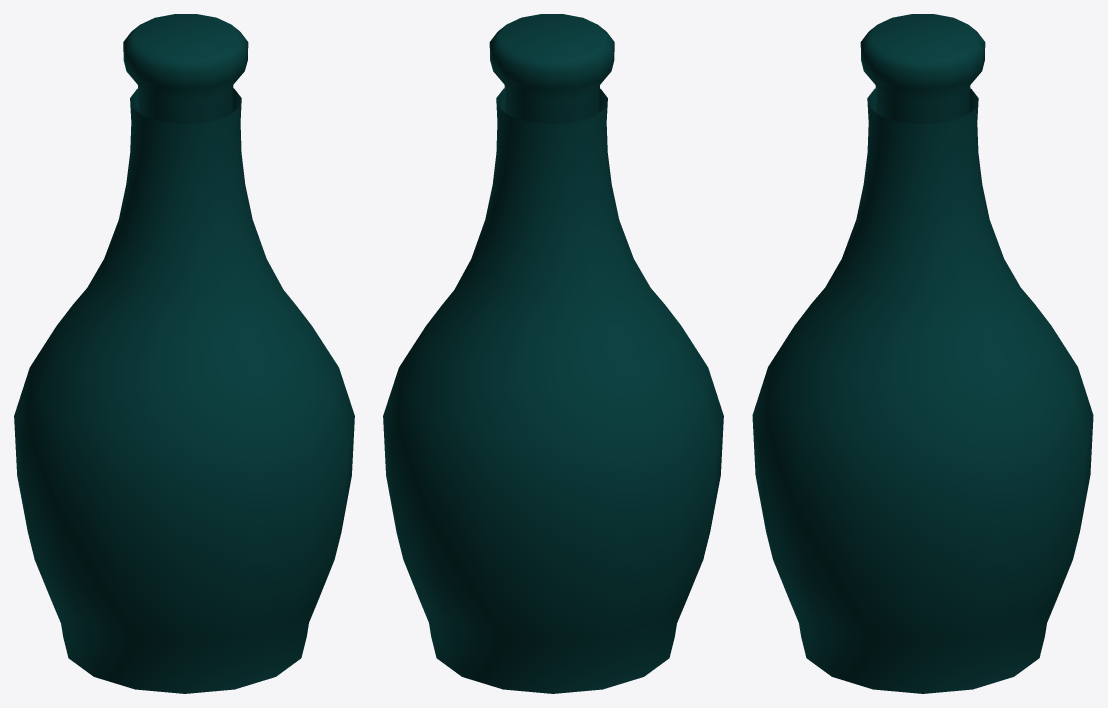
Rendered from bocal_2.fbx.
3 renders of one model, left to right at view 1: azimuth 30°, elevation 25°; view 2: azimuth 150°, elevation 25°; view 3: azimuth 270°, elevation 25°, orthographic.
Visible parts, largest first — view 1: bocal_2; view 2: bocal_2; view 3: bocal_2.
Part boxes in pixels (x1=…): bocal_2: x1=14, y1=14, x2=354, y2=693; bocal_2: x1=383, y1=14, x2=723, y2=693; bocal_2: x1=752, y1=14, x2=1093, y2=693.
Size of the model in its own units: 0.601 by 1.2 by 0.6042.
